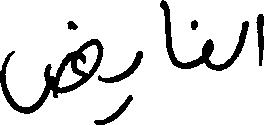X: (0, 16, 101, 124), (160, 0, 171, 66), (233, 16, 247, 67), (131, 46, 141, 105), (256, 9, 263, 70), (203, 34, 213, 74)
